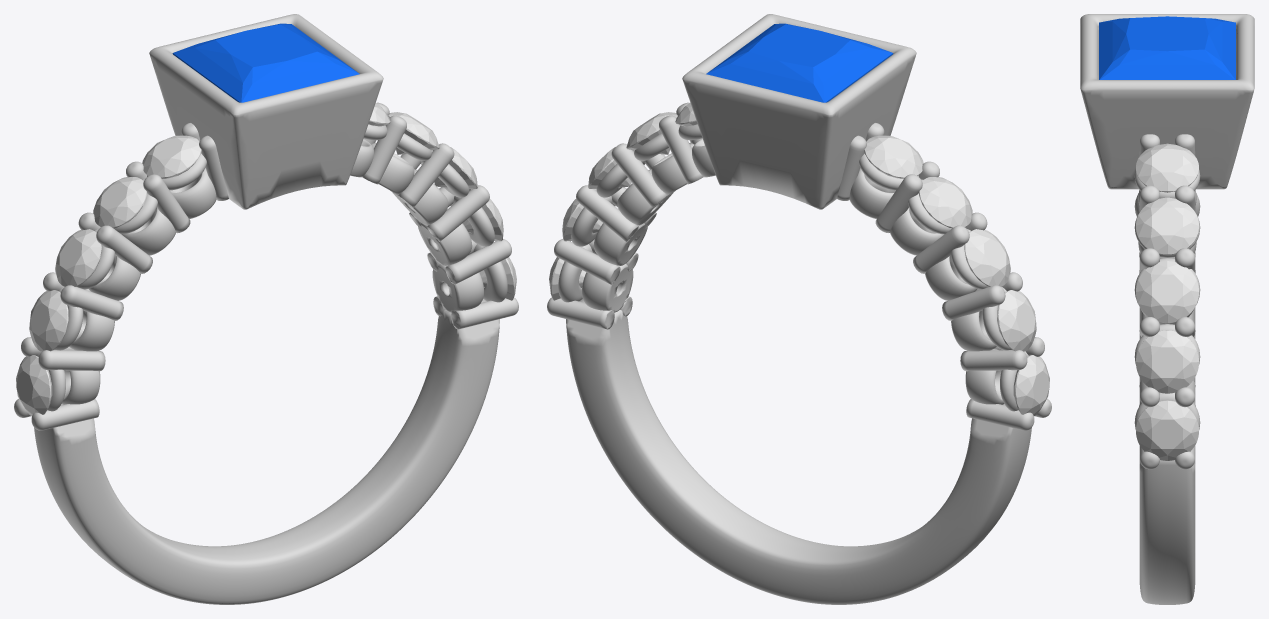
The model's file is bluesapphire-princess-platinum-bezelset-straightband-11stone.glb.
The picture shows the model from 3 angles, left to right: view 1: azimuth 30°, elevation 25°; view 2: azimuth 150°, elevation 25°; view 3: azimuth 270°, elevation 25°; orthographic projection.
Visible parts, largest first — view 1: metal, stone, side.002, side.003, side.001, side.004, side, side.006; view 2: metal, stone, side.002, side.003, side.001, side.004, side, side.006; view 3: metal, stone, side.008, side.007, side.009, side.006, side.005.
Boxes of the visible parts, bbox=[...] form: metal: bbox=[14, 14, 518, 604]; stone: bbox=[172, 23, 359, 102]; side.002: bbox=[55, 229, 101, 286]; side.003: bbox=[93, 177, 146, 228]; side.001: bbox=[29, 290, 68, 351]; side.004: bbox=[142, 135, 201, 178]; side: bbox=[16, 355, 52, 415]; side.006: bbox=[388, 112, 439, 154]; metal: bbox=[547, 14, 1051, 604]; stone: bbox=[706, 23, 893, 102]; side.002: bbox=[964, 229, 1010, 286]; side.003: bbox=[919, 177, 972, 228]; side.001: bbox=[997, 290, 1036, 351]; side.004: bbox=[864, 135, 923, 178]; side: bbox=[1013, 355, 1049, 415]; side.006: bbox=[626, 112, 677, 154]; metal: bbox=[1080, 14, 1254, 604]; stone: bbox=[1099, 16, 1235, 79]; side.008: bbox=[1136, 330, 1198, 393]; side.007: bbox=[1136, 261, 1198, 323]; side.009: bbox=[1136, 400, 1198, 460]; side.006: bbox=[1136, 197, 1198, 254]; side.005: bbox=[1136, 143, 1198, 192].
Size of the model in its own units: 22.2 by 23.86 by 6.89.
